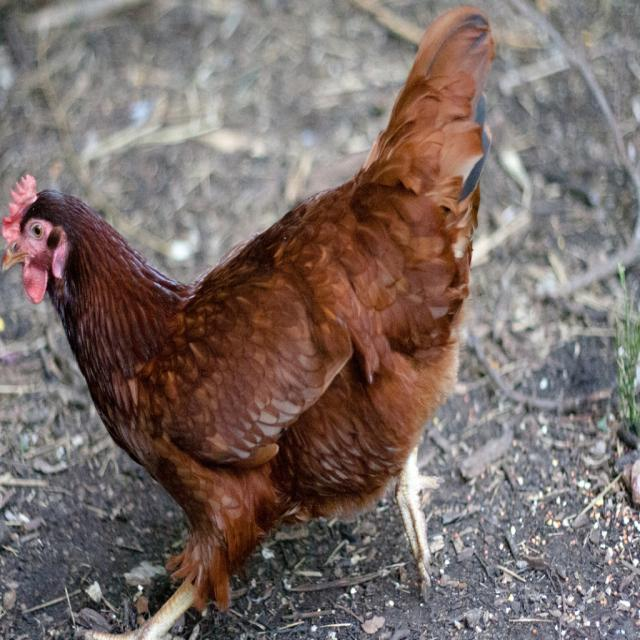Chicken: (19, 19, 498, 640)
